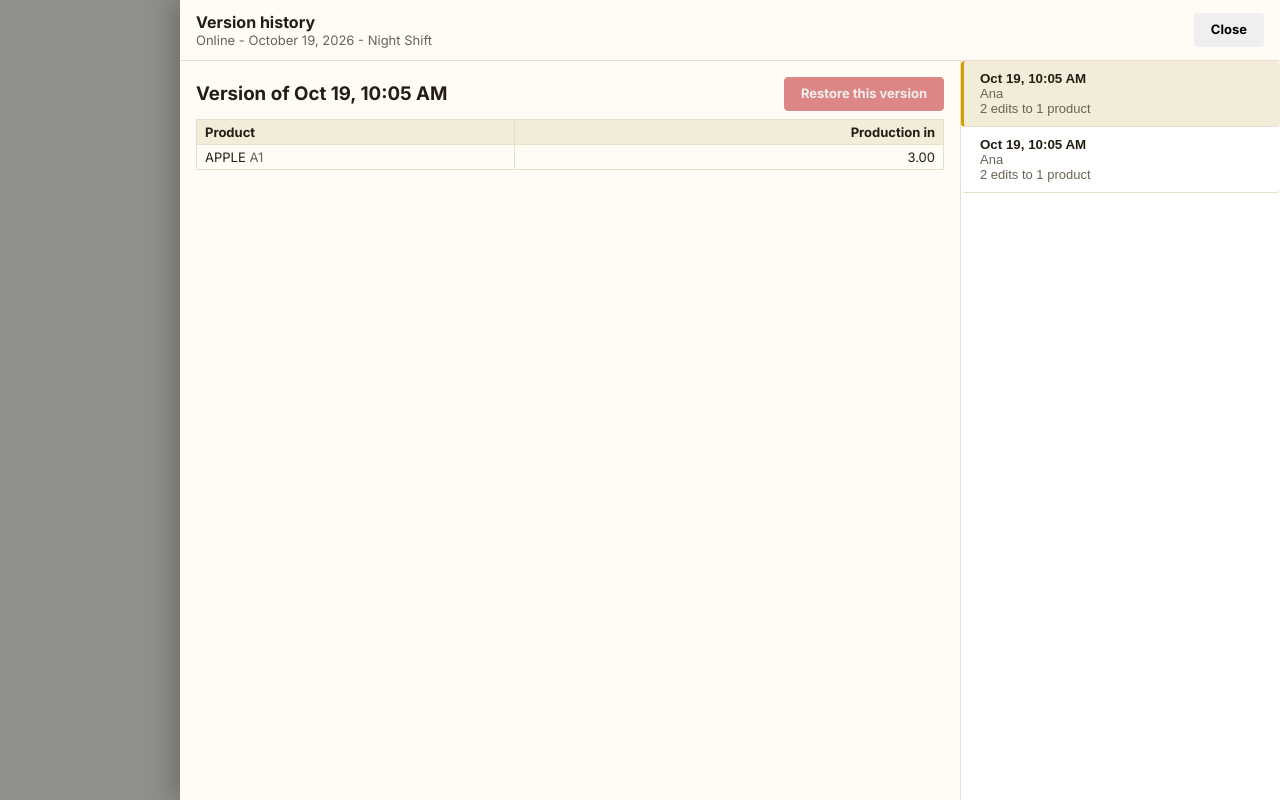
it: VersionHistoryPanel restore › confirms, then restores the picked older version
Click the 2nd button "Oct 19, 10:05 AM Ana 2 edits to 1 product" at x=1033, y=144, box [961, 127, 1279, 193]
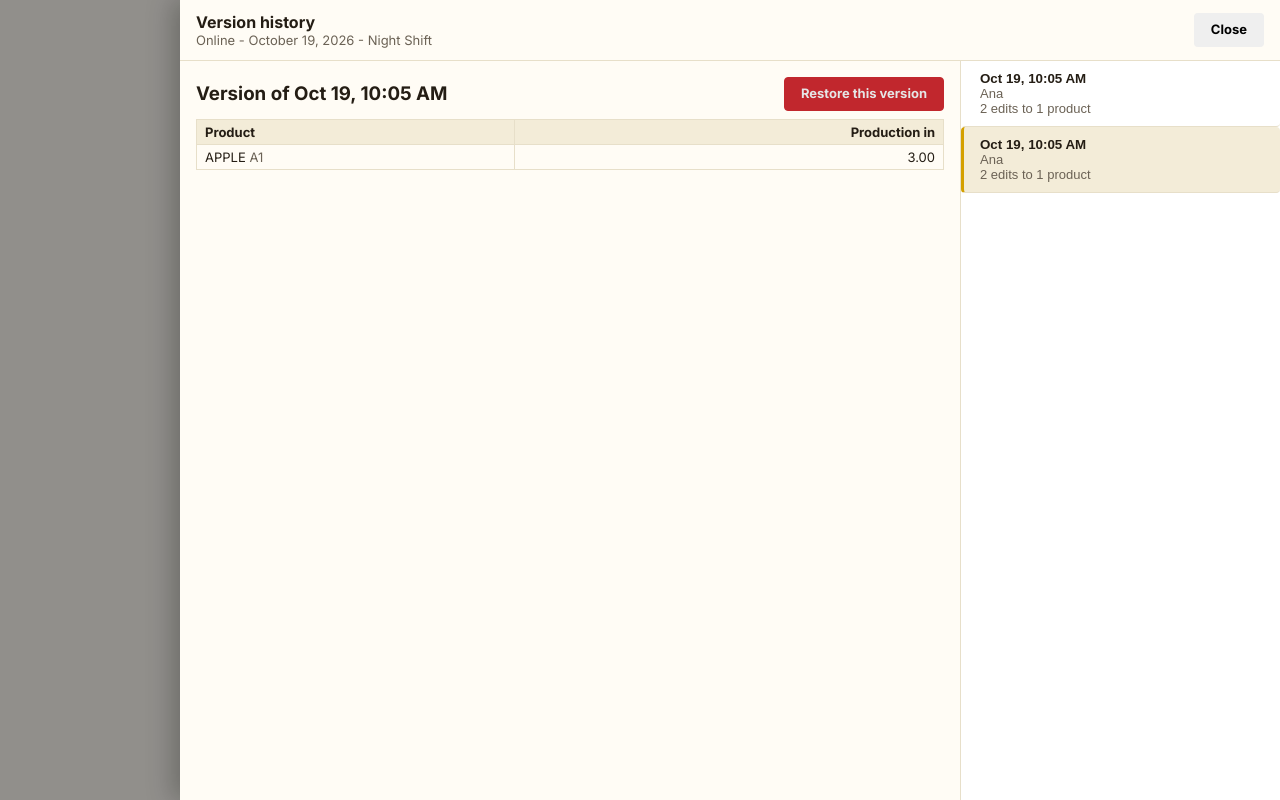
Expected: the text "APPLE" is shown, [205, 149, 246, 165]
Now the button "Restore this version" is enabled
Click the button "Restore this version" at x=864, y=94, box [784, 77, 944, 111]
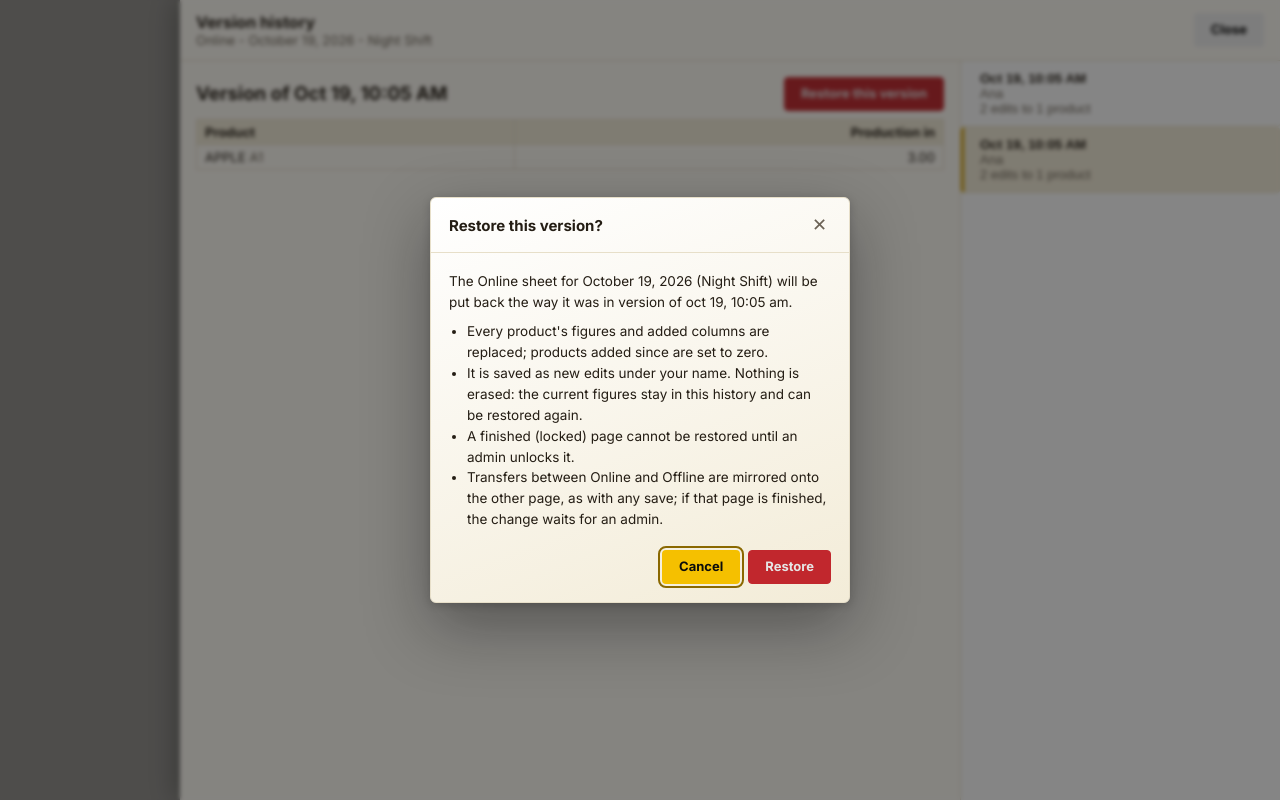
Click the button "Restore" at x=790, y=567, box [748, 550, 831, 584]
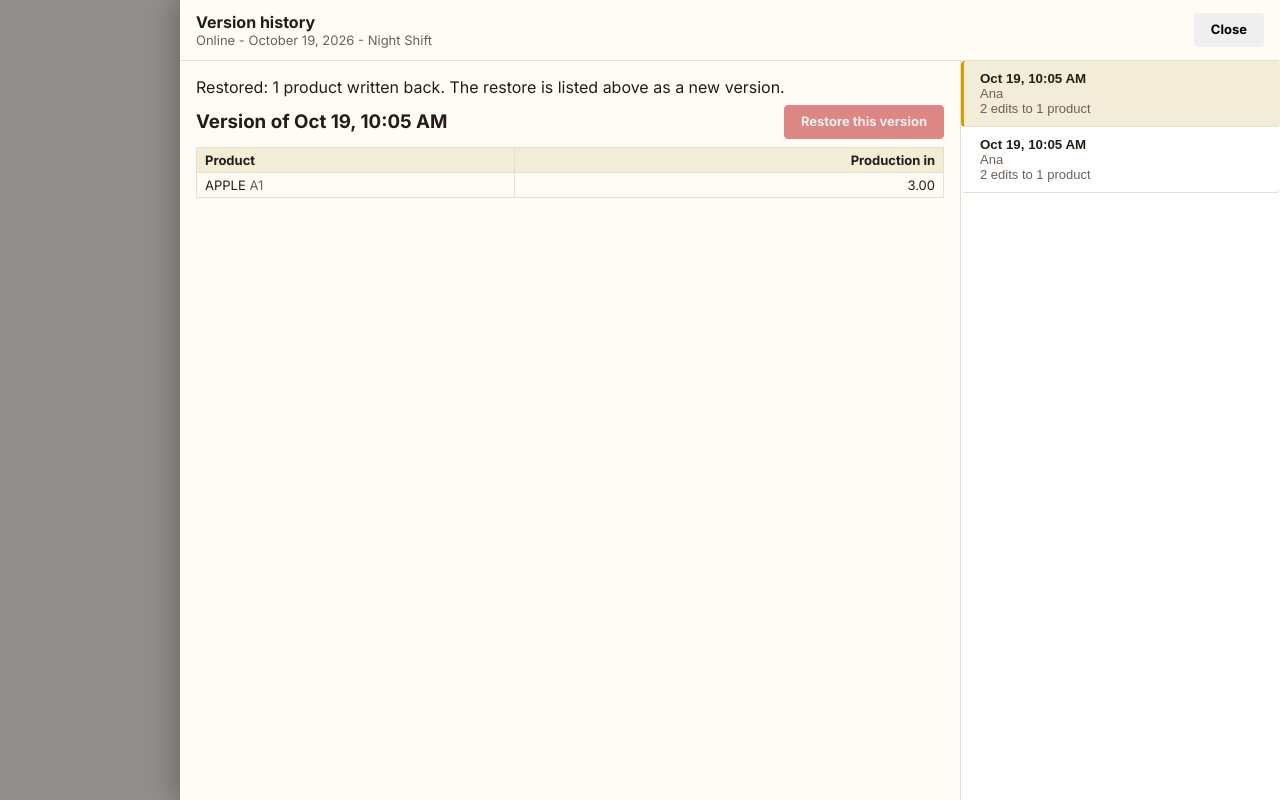
Now the text "1 product written back" is shown, box [196, 77, 785, 97]
